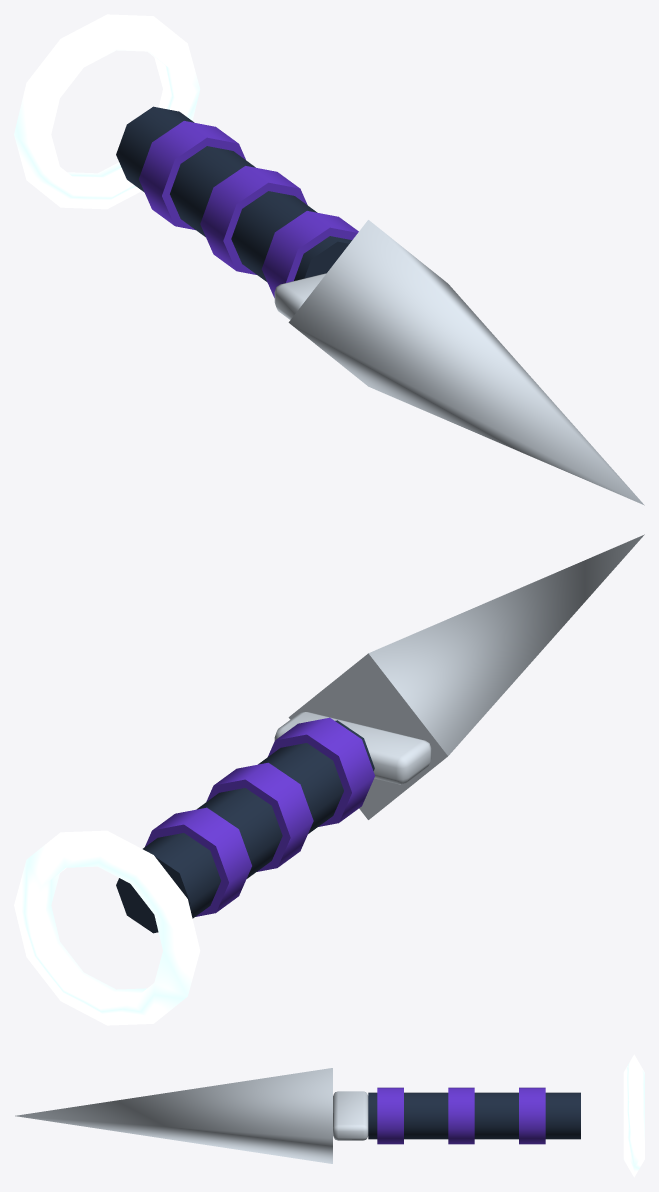
File: WarpKunai.fbx
3 views of the same model, one above another, from view 1: azimuth 30°, elevation 25°; view 2: azimuth 150°, elevation 25°; view 3: azimuth 270°, elevation 25° (orthographic). The views are drawn at different scales.
Visible parts, largest first — view 1: WarpKunai; view 2: WarpKunai; view 3: WarpKunai.
Boxes of the visible parts, <box> form: WarpKunai: <box>14,14,644,505</box>; WarpKunai: <box>14,534,644,1025</box>; WarpKunai: <box>15,1054,644,1177</box>.
Bounding box in the file's own units: 0.07 × 0.07 × 0.3561.
